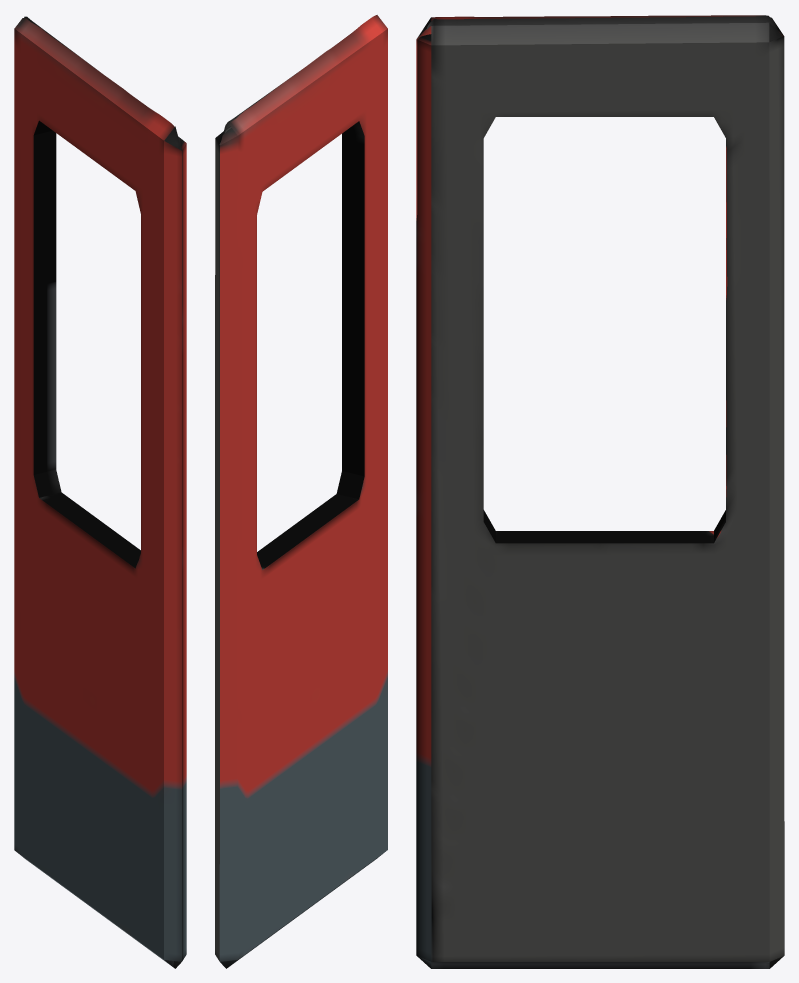
File: cabin door left.obj
3 views of the same model, side by side, from view 1: azimuth 30°, elevation 25°; view 2: azimuth 150°, elevation 25°; view 3: azimuth 270°, elevation 25° (orthographic). The views are drawn at different scales.
Visible parts, largest first — view 1: Cabin_Door_left_Cube.015; view 2: Cabin_Door_left_Cube.015; view 3: Cabin_Door_left_Cube.015.
Part boxes in pixels (x1,y1,x2,y2): Cabin_Door_left_Cube.015: (14,16,186,968); Cabin_Door_left_Cube.015: (215,15,387,968); Cabin_Door_left_Cube.015: (416,15,784,968).
Size of the model in its own units: 0.0383 by 1.37 by 0.4788.
